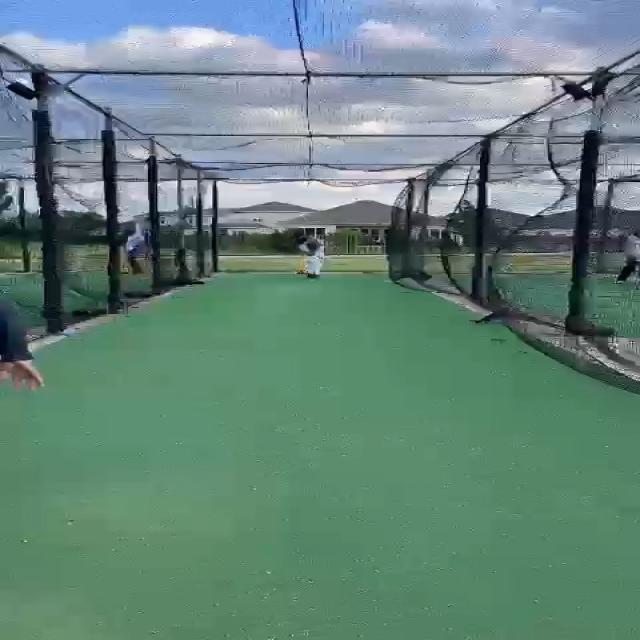batsman: (294, 233, 327, 278)
